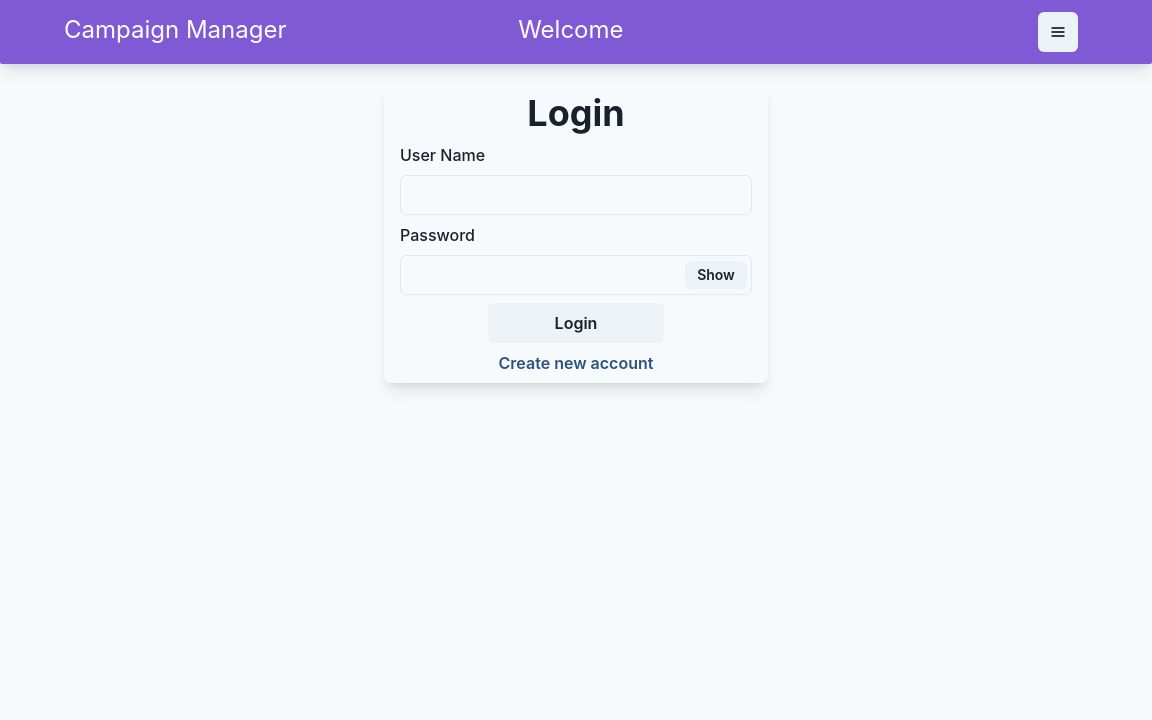
log in › should show you log in errors or error toast
Click the button "Login". click: (576, 323)
box: top-left (488, 303), bottom-right (664, 343)
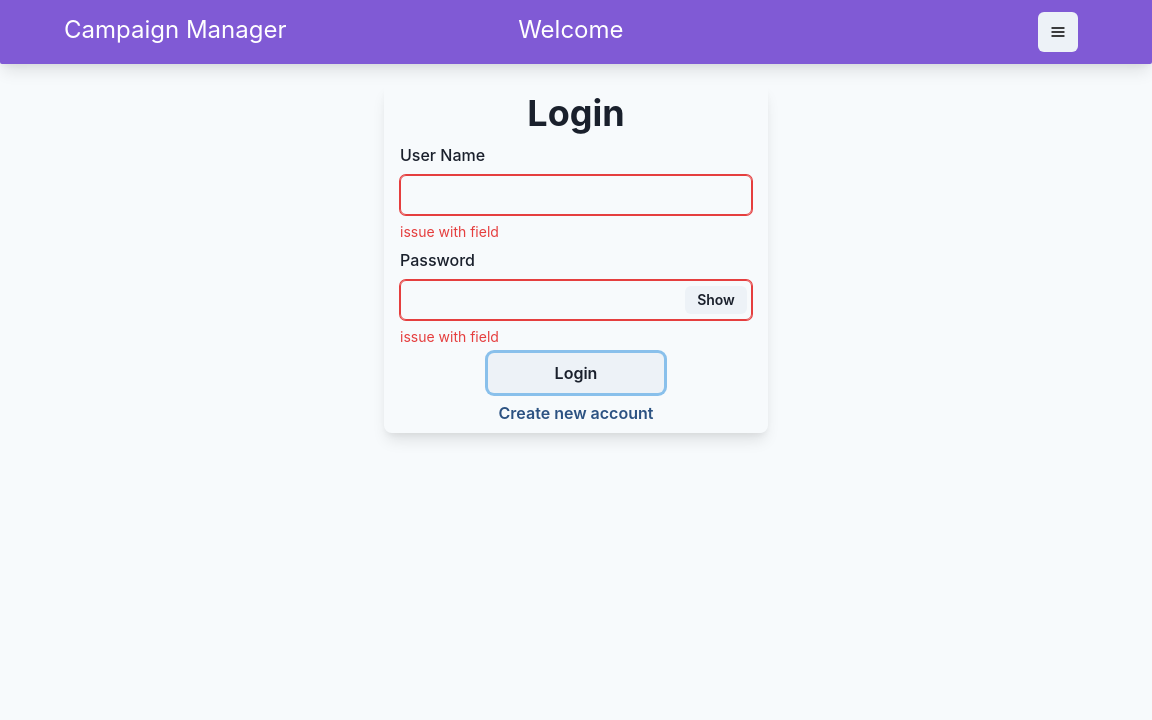
Expected: the text "issue with field" below "User Name" is shown, top-left (400, 223), bottom-right (499, 240)
Type "Test_Admin" into the field with id "input-User Name". click: (576, 195)
box: top-left (400, 175), bottom-right (752, 215)
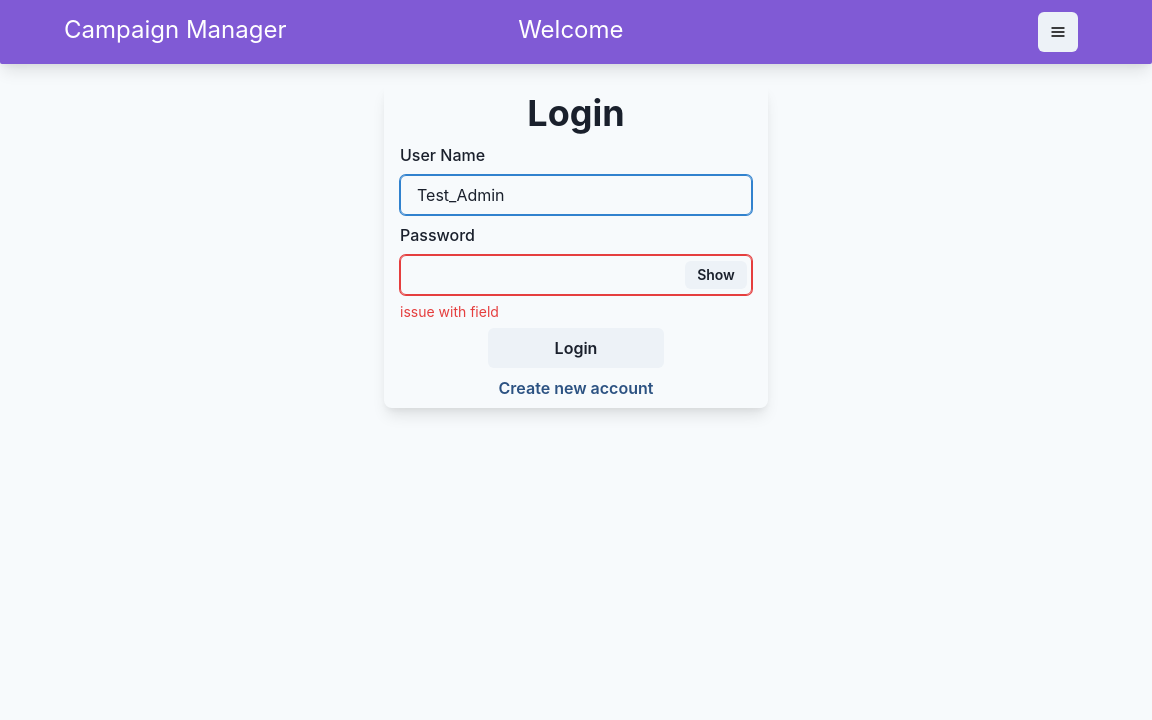
Type "WaffleH0use" into the password field with id "input-Password". click: (576, 275)
box: top-left (400, 255), bottom-right (752, 295)
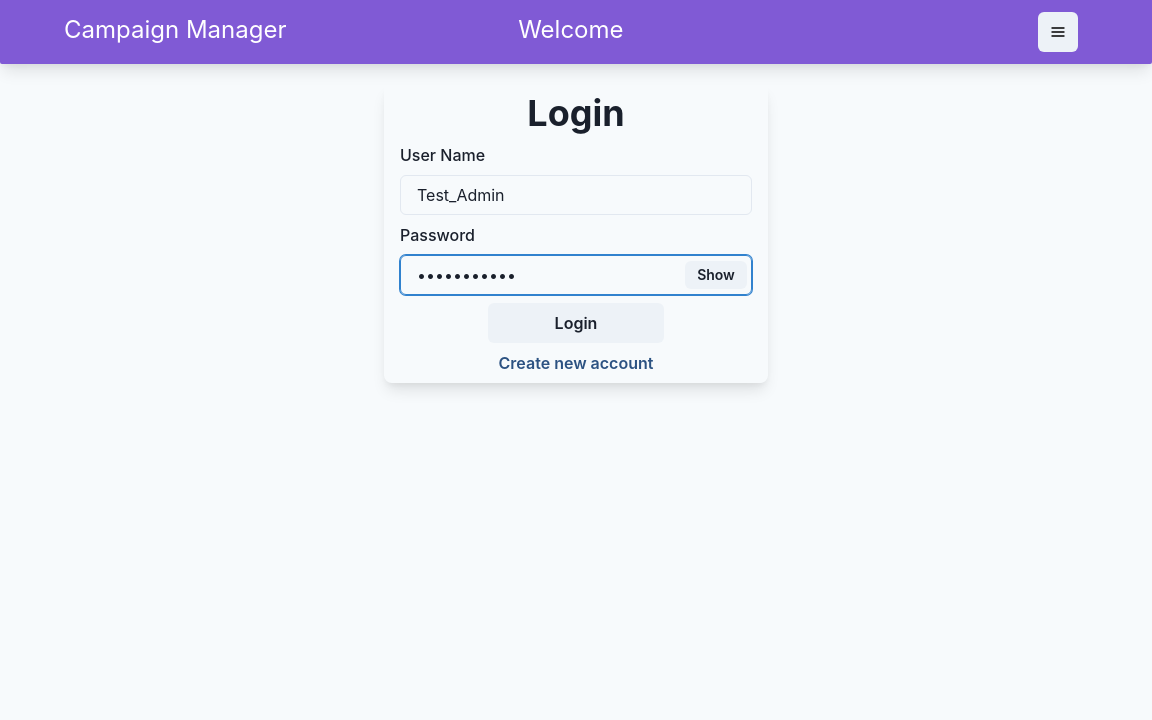
Click the button "Login". click: (576, 323)
box: top-left (488, 303), bottom-right (664, 343)
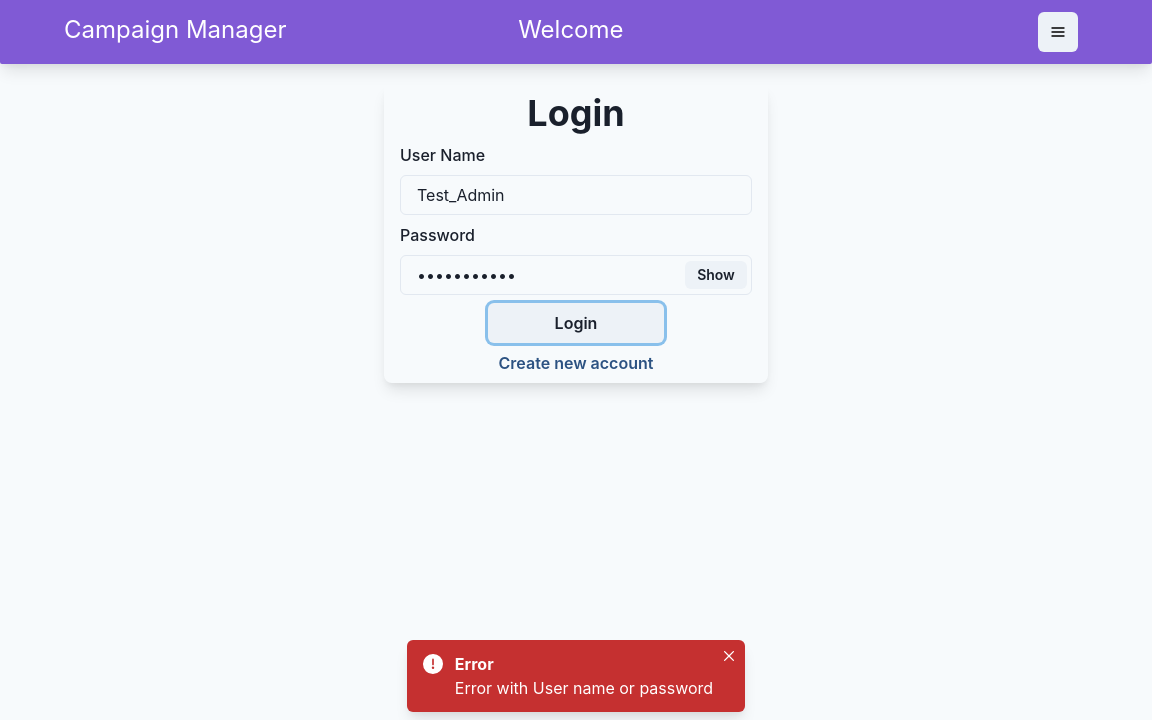
Expected: the text "Error" is shown, top-left (455, 654), bottom-right (494, 674)
